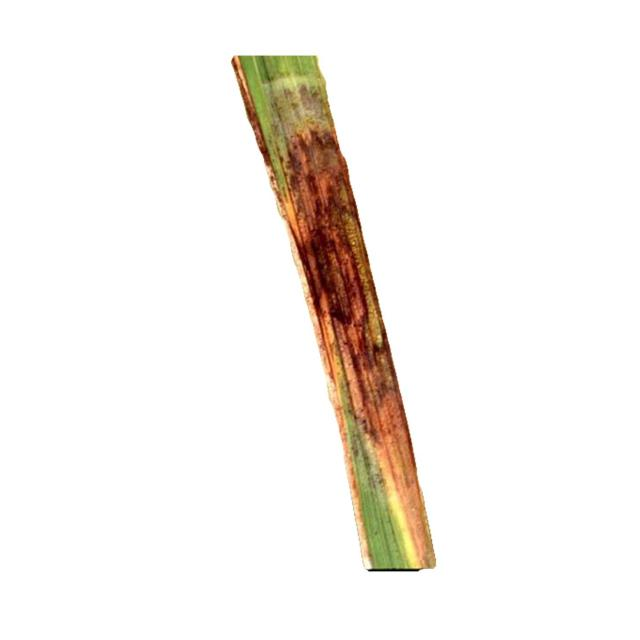Leaf scald: (172, 17, 466, 618)
